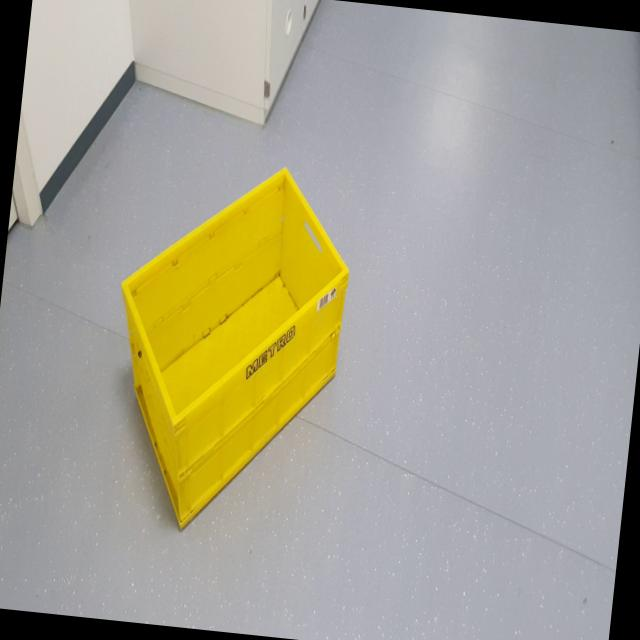box: (88, 142, 373, 562)
